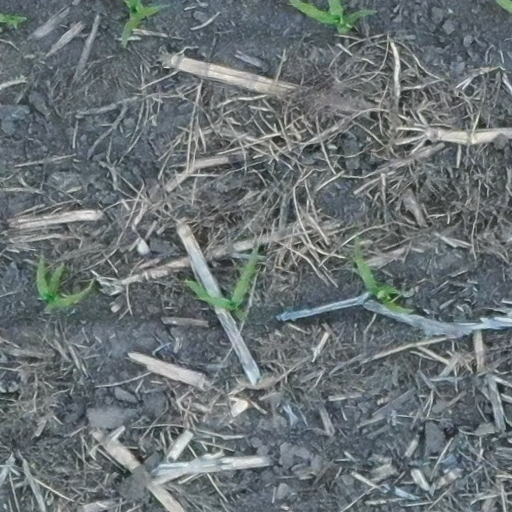planta: (179, 235, 259, 317), (354, 232, 410, 314), (37, 250, 94, 308)
